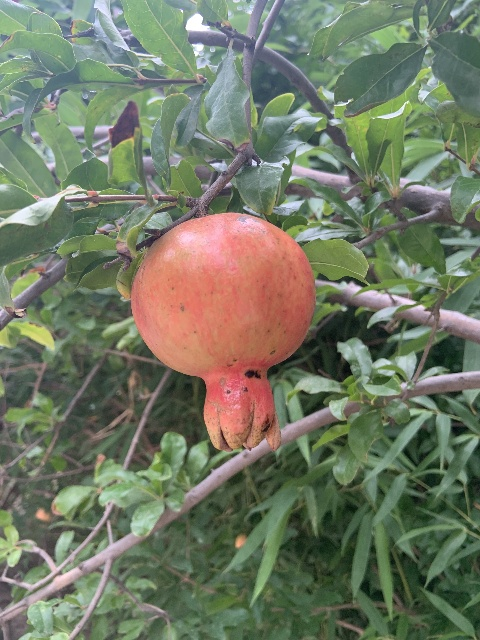ripe: (128, 211, 316, 453)
